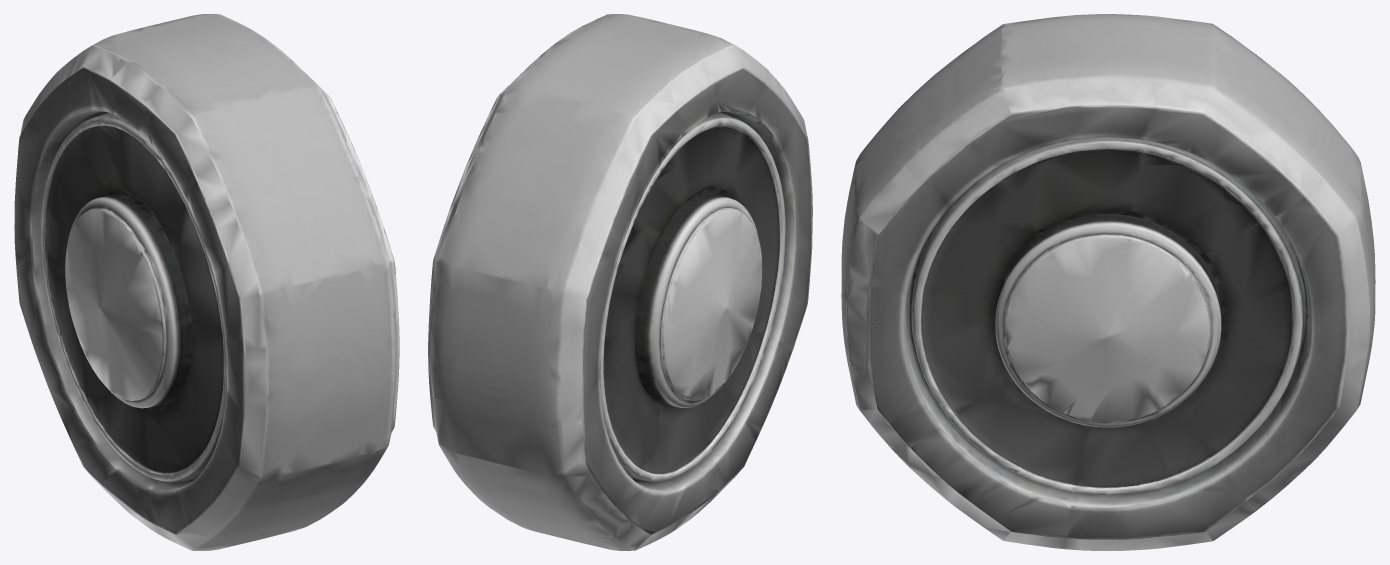
The model's file is btn-image.glb.
3 renders of one model, left to right at view 1: azimuth 30°, elevation 25°; view 2: azimuth 150°, elevation 25°; view 3: azimuth 270°, elevation 25°, orthographic. The views are drawn at different scales.
Visible parts, largest first — view 1: tripo_node_e1994537-6657-4d06-9248-a3d7e1c72f4f; view 2: tripo_node_e1994537-6657-4d06-9248-a3d7e1c72f4f; view 3: tripo_node_e1994537-6657-4d06-9248-a3d7e1c72f4f.
Part boxes in pixels (bbox=[...]): tripo_node_e1994537-6657-4d06-9248-a3d7e1c72f4f: bbox=[14, 14, 399, 550]; tripo_node_e1994537-6657-4d06-9248-a3d7e1c72f4f: bbox=[428, 14, 812, 550]; tripo_node_e1994537-6657-4d06-9248-a3d7e1c72f4f: bbox=[841, 14, 1375, 550].
Size of the model in its own units: 0.4771 by 0.9999 by 1.
1 material, 1 textured.
